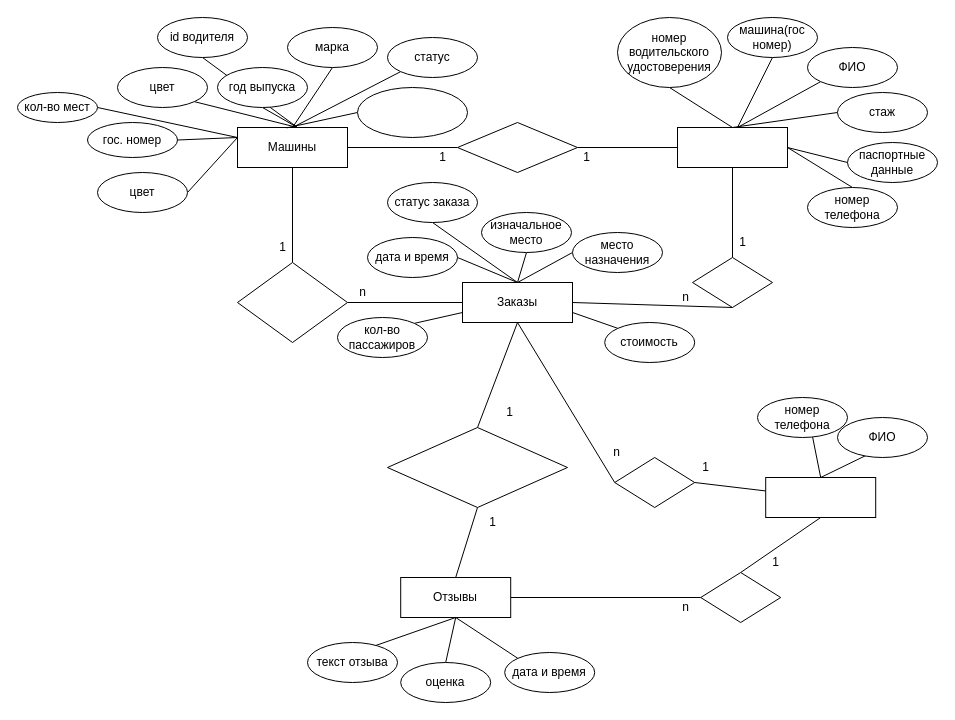
Image size: 955x720. Some labels were removed from this diagram. Each missing label, with the centre of its shape:
Водители: the point at 732,147
выполняется на: the point at 292,302
выполняют: the point at 732,282
Дата последнего техосмотра: the point at 412,112
делает: the point at 654,482
имеет(заказ имеет отзыв): the point at 477,467
Клиент: the point at 820,497
оставляет: the point at 740,597
пользуется: the point at 517,147
